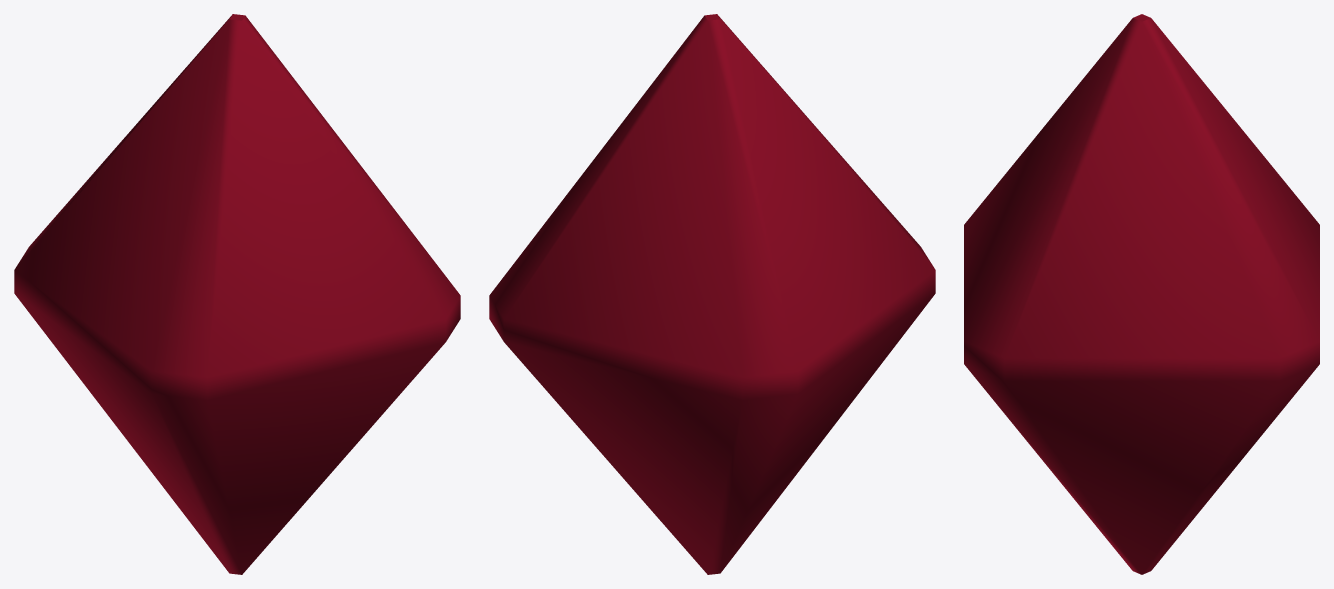
File: Gem_Pink.fbx
3 views of the same model, side by side, from view 1: azimuth 30°, elevation 25°; view 2: azimuth 150°, elevation 25°; view 3: azimuth 270°, elevation 25° (orthographic).
Parts seen in each view (by area): view 1: Gem_Pink; view 2: Gem_Pink; view 3: Gem_Pink.
Boxes of the visible parts, bbox=[...] form: Gem_Pink: bbox=[14, 14, 460, 574]; Gem_Pink: bbox=[489, 14, 935, 574]; Gem_Pink: bbox=[964, 14, 1319, 574].
Size of the model in its own units: 113 by 194 by 113.
